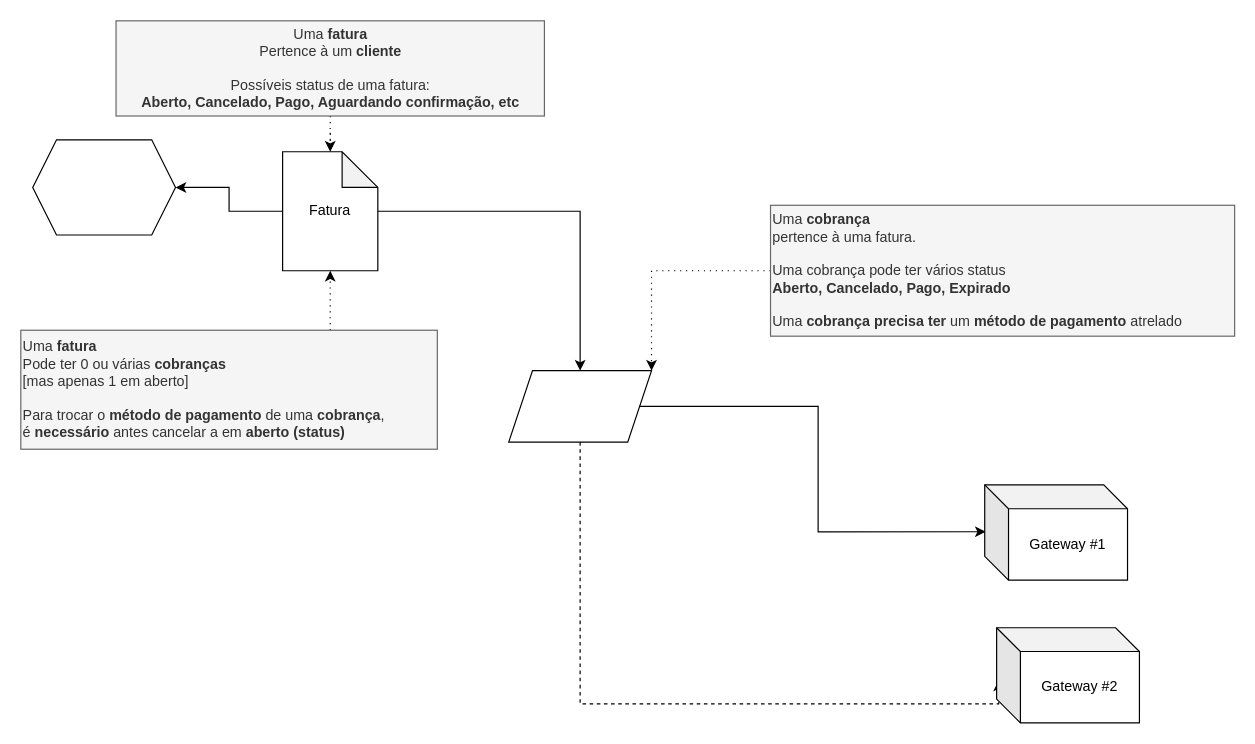
Image size: 1255x744. Some labels were removed from this diagram. Here are the shapes that lost their labels. From the top down, the centre of each, then its label:
the point at 104,187: Cliente
the point at 580,405: Cobrança #1-a
